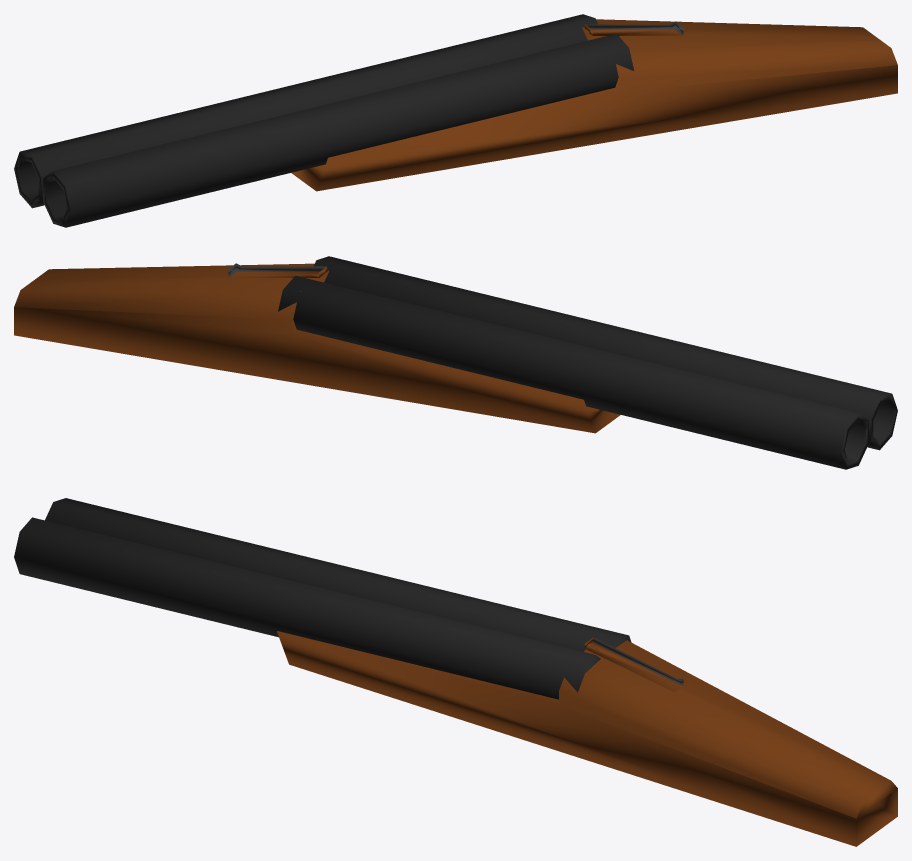
The model's file is _hottie.fbx.
The picture shows the model from 3 angles, top to bottom: view 1: azimuth 30°, elevation 25°; view 2: azimuth 150°, elevation 25°; view 3: azimuth 330°, elevation 25°; orthographic projection.
Parts seen in each view (by area): view 1: Cylinder, Cube; view 2: Cylinder, Cube; view 3: Cylinder, Cube.
Boxes of the visible parts, x1,y1,x2,y2 form: Cylinder: (14,14,634,227); Cube: (291,18,897,191); Cylinder: (278,256,897,469); Cube: (14,263,620,433); Cylinder: (14,498,631,699); Cube: (277,631,897,846).
Size of the model in its own units: 550 by 76.17 by 70.75.
